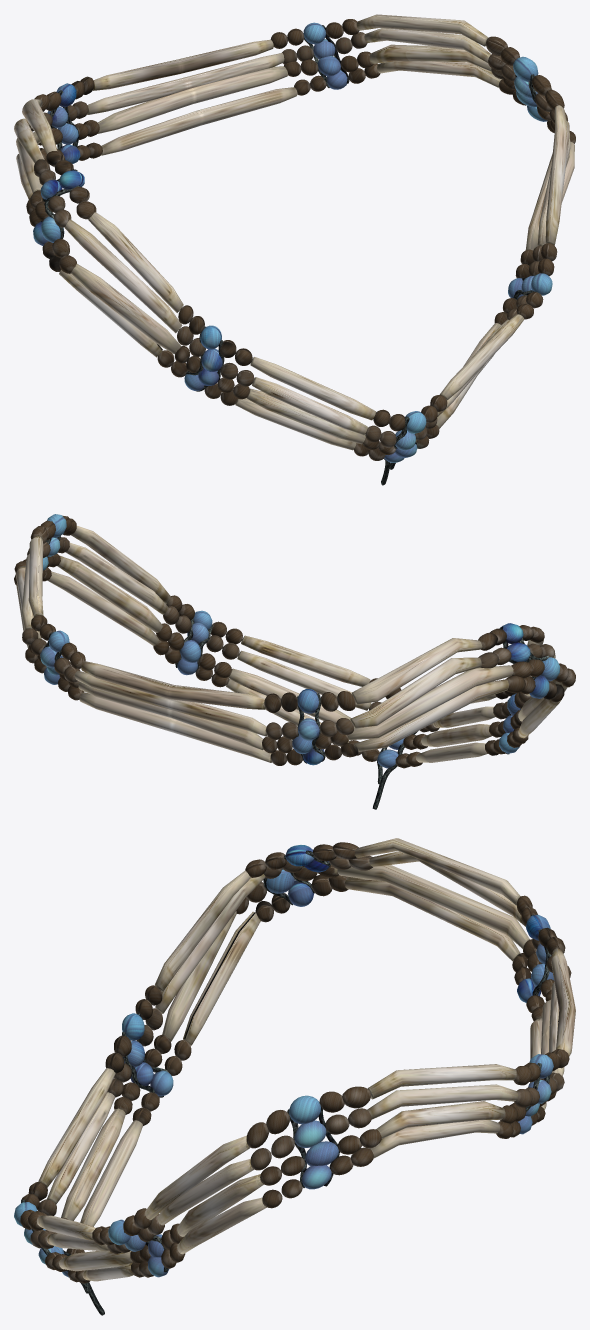
The model's file is nativeAmerican.glb.
The picture shows the model from 3 angles, top to bottom: view 1: azimuth 30°, elevation 25°; view 2: azimuth 150°, elevation 25°; view 3: azimuth 270°, elevation 25°; orthographic projection. The views are drawn at different scales.
Visible parts, largest first — view 1: nativeAmerican; view 2: nativeAmerican; view 3: nativeAmerican.
Part boxes in pixels (<box>): nativeAmerican: <box>14,14,575,485</box>; nativeAmerican: <box>14,514,575,809</box>; nativeAmerican: <box>14,838,575,1315</box>.
Bounding box in the file's own units: 245 × 141 × 199.
1 material, 1 textured.
